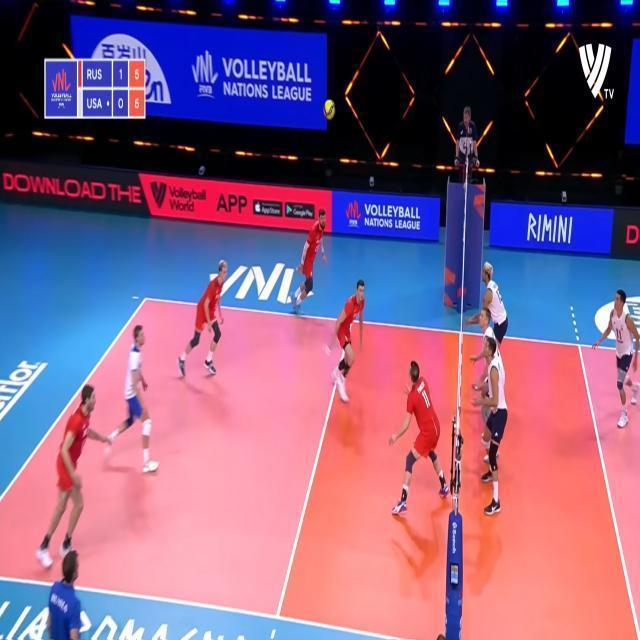volleyball: (324, 99, 334, 120)
